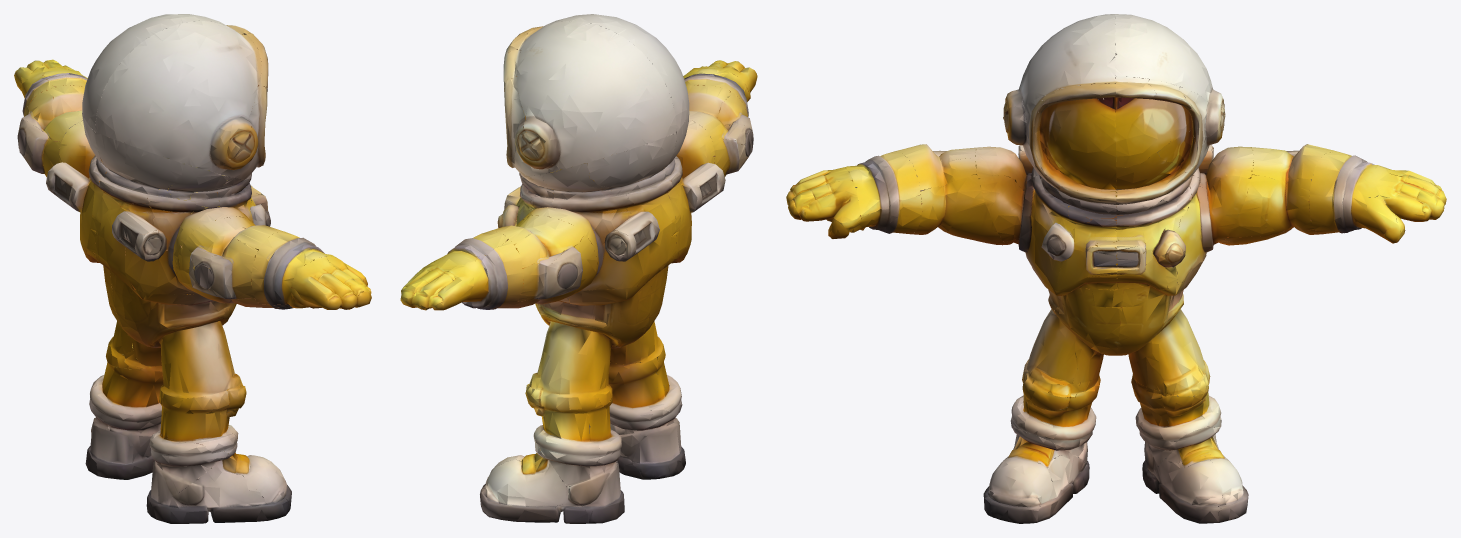
The model's file is GoldenApple_Mixamo.fbx.
3 renders of one model, left to right at view 1: azimuth 30°, elevation 25°; view 2: azimuth 150°, elevation 25°; view 3: azimuth 270°, elevation 25°, orthographic. The views are drawn at different scales.
Visible parts, largest first — view 1: tripo_node_10066ab8-02e1-4a2a-8053-0b8703254ae9; view 2: tripo_node_10066ab8-02e1-4a2a-8053-0b8703254ae9; view 3: tripo_node_10066ab8-02e1-4a2a-8053-0b8703254ae9.
Boxes of the visible parts, left/top/right/bottom form: tripo_node_10066ab8-02e1-4a2a-8053-0b8703254ae9: left=14, top=14, right=371, bottom=523; tripo_node_10066ab8-02e1-4a2a-8053-0b8703254ae9: left=400, top=14, right=757, bottom=523; tripo_node_10066ab8-02e1-4a2a-8053-0b8703254ae9: left=786, top=14, right=1446, bottom=523.
Bounding box in the file's own units: 28.67 × 77.1 × 98.17.
1 material, 1 textured.
